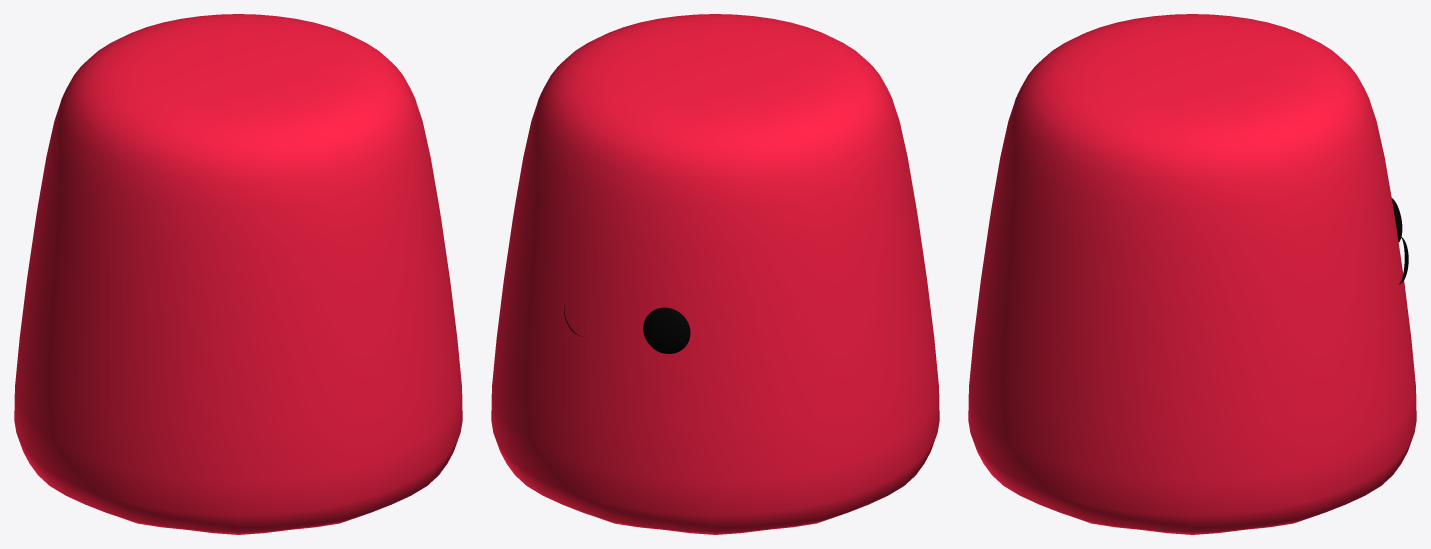
Rendered from Jujuba.fbx.
3 renders of one model, left to right at view 1: azimuth 30°, elevation 25°; view 2: azimuth 150°, elevation 25°; view 3: azimuth 270°, elevation 25°, orthographic.
Parts seen in each view (by area): view 1: Corpo; view 2: Corpo, Olhos; view 3: Corpo.
Part boxes in pixels (x1=…): Corpo: x1=14, y1=14, x2=462, y2=534; Corpo: x1=491, y1=14, x2=939, y2=534; Olhos: x1=564, y1=305, x2=690, y2=353; Corpo: x1=968, y1=14, x2=1416, y2=534.
Bounding box in the file's own units: 156 × 151 × 156.
